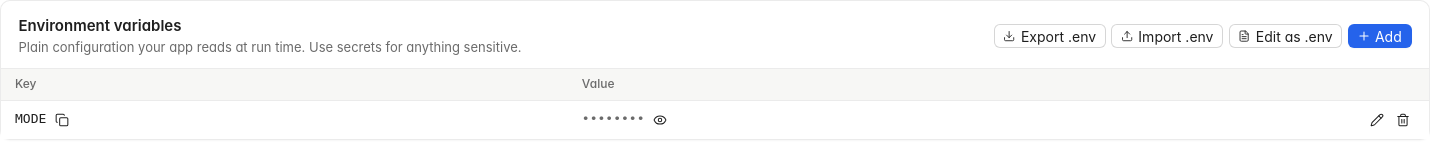
Test case: EnvEditor › lists variables masked, reveals a value and copies the key
Check: the text "MODE" is shown, box [15,110,46,129]
Check: the text "••••••••" is shown, box [582,110,644,129]
Click the button named "Show value of MODE".
click(660, 120)  # box [648,108,672,132]
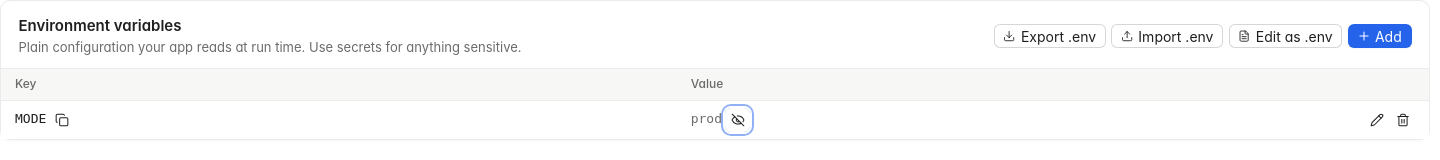
Check: the text "prod" is shown, box [691,110,722,129]
Check: the button named "Hide value of MODE" is shown, box [726,108,750,132]
